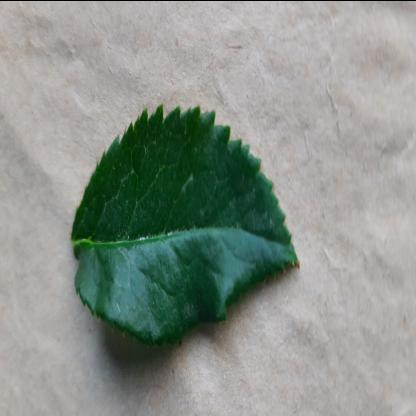normal: (72, 93, 294, 357)
